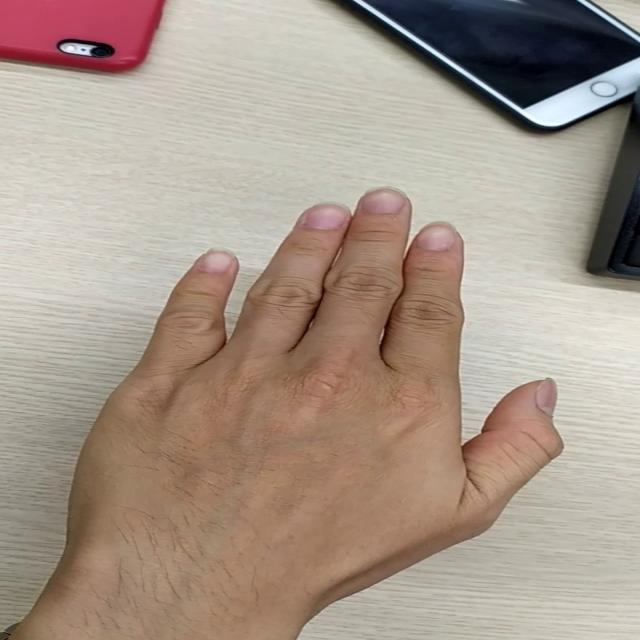hand: (131, 181, 563, 568)
